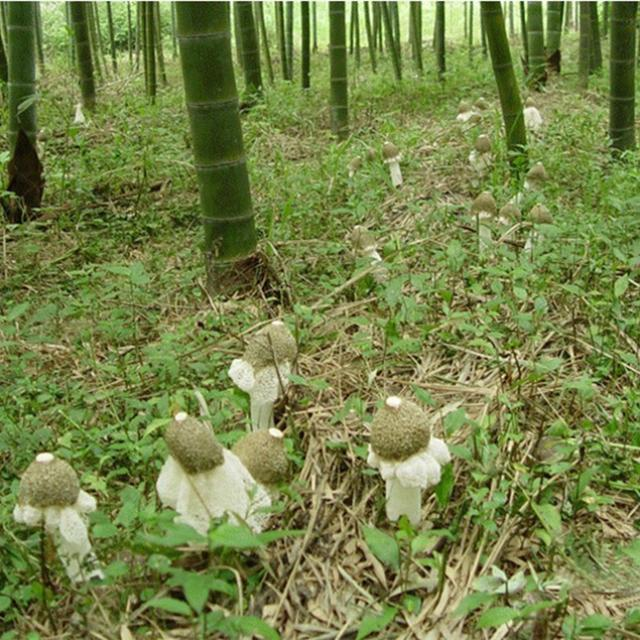Dictyophora indusiate: (160, 412, 269, 533), (10, 454, 99, 563), (369, 396, 447, 517), (231, 323, 292, 429), (229, 424, 292, 490)
